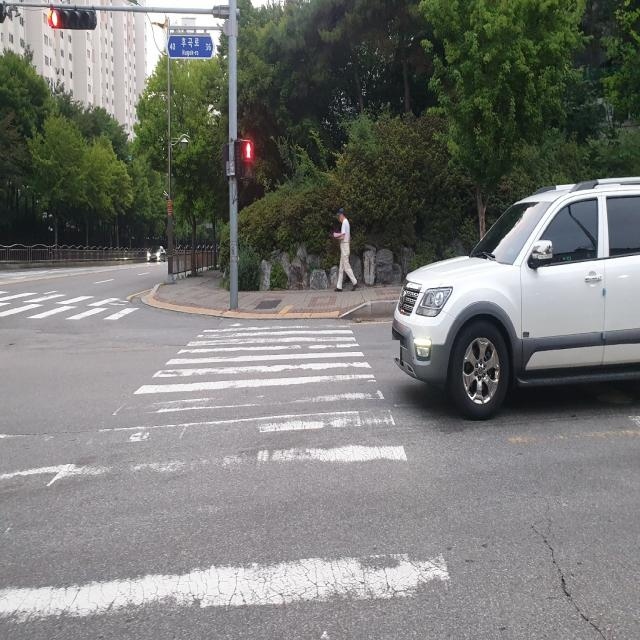빨간불: (233, 139, 255, 181)
횡단보도: (0, 304, 405, 640), (0, 275, 152, 330)
